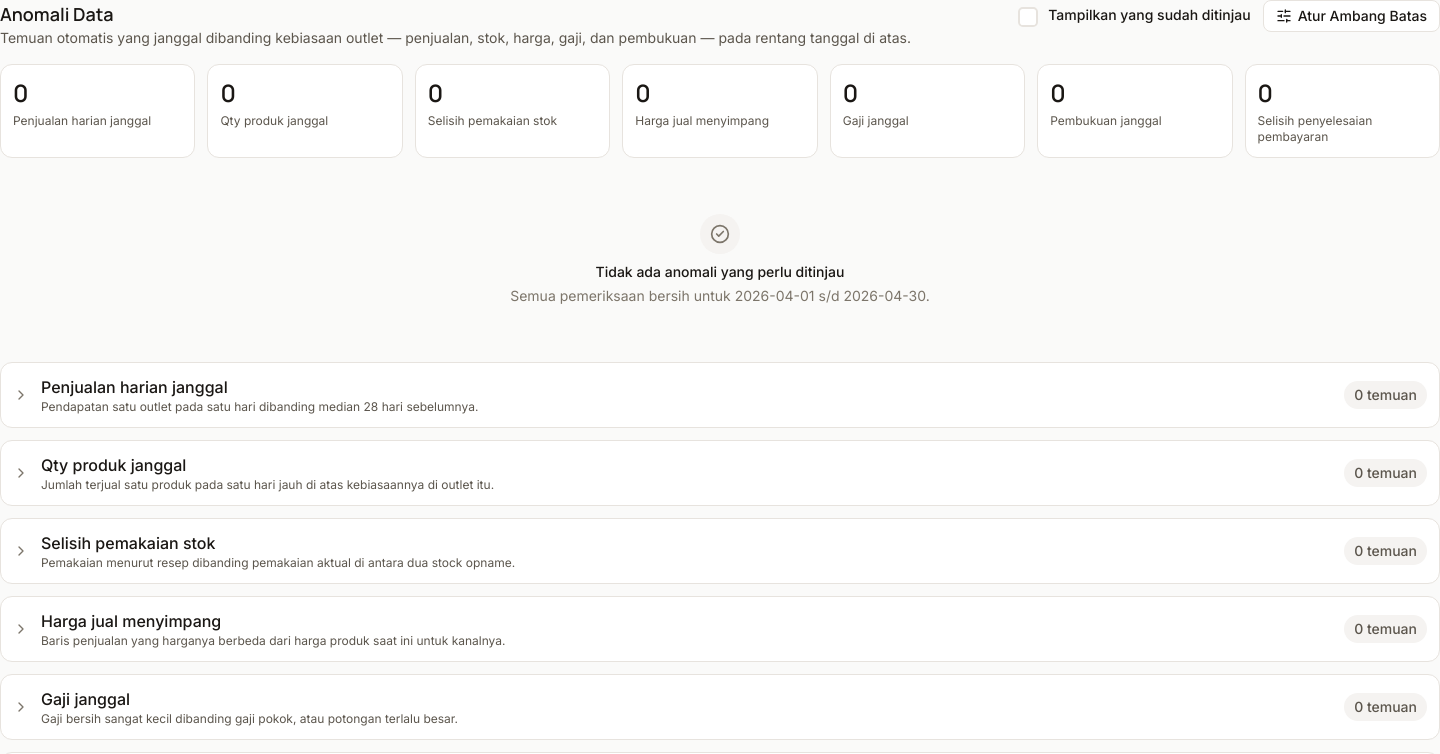
Test: AnomalyPanel › "Pulihkan Bawaan" puts every field back to its default
Click the button "Atur Ambang Batas" at (1351, 16), box [1263,0,1439,32]
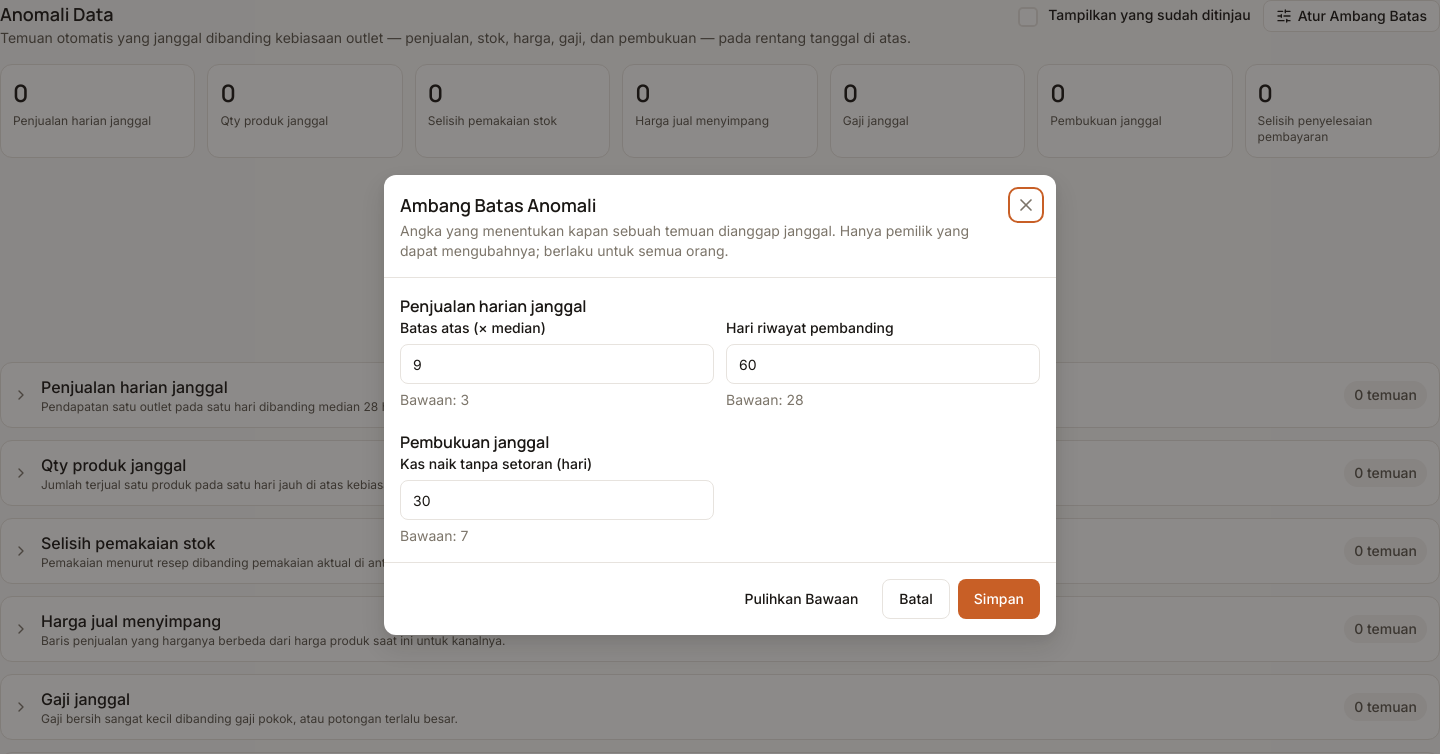
Expected: the number field labelled "Batas atas (× median)" holds "9", [400,344,714,384]
Click the button "Pulihkan Bawaan" at (801, 599), box [728,579,874,619]
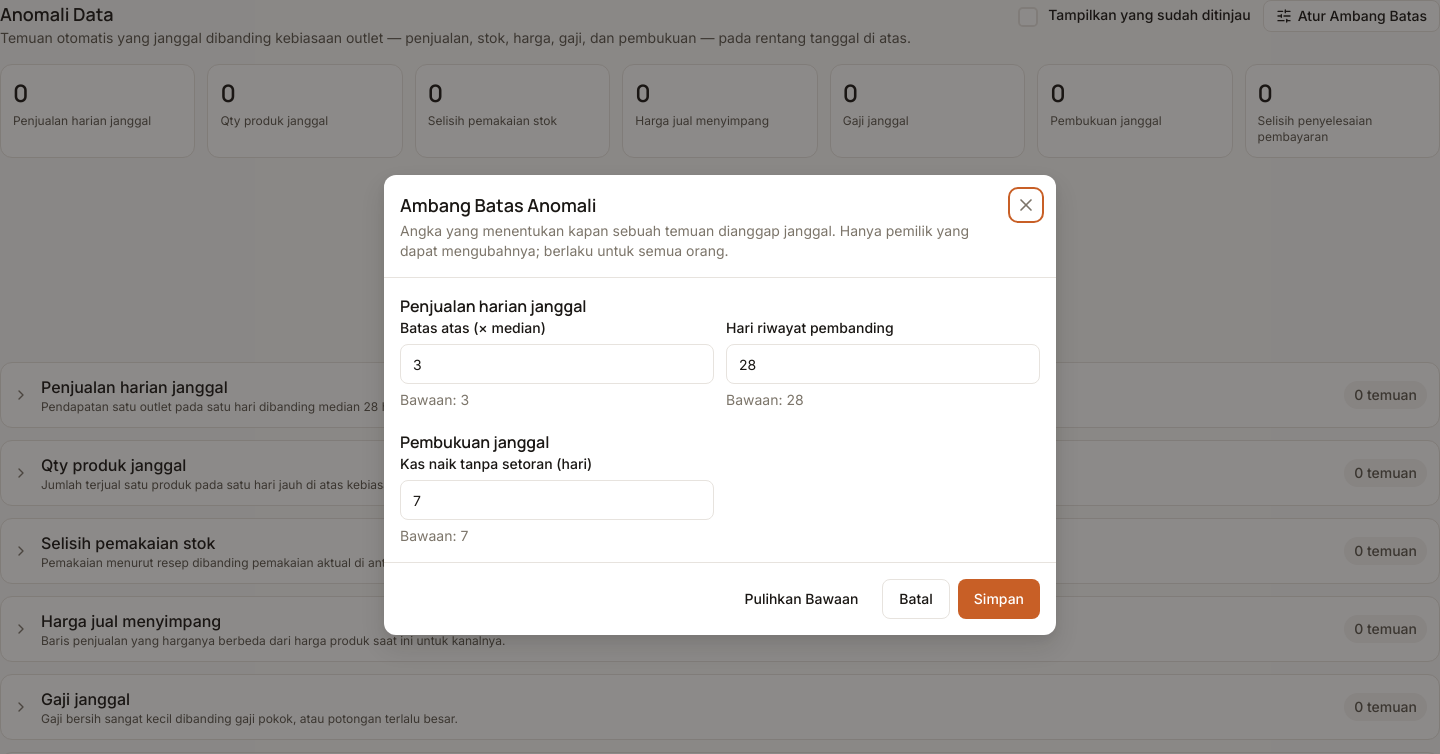
Expected: the number field labelled "Batas atas (× median)" holds "3", [400,344,714,384]
Expected: the number field labelled "Kas naik tanpa setoran (hari)" holds "7", [400,480,714,520]
